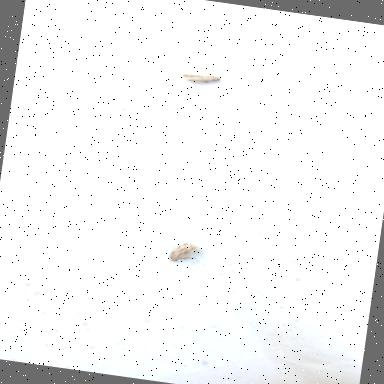pbw: (146, 228, 218, 278), (170, 56, 249, 101)
